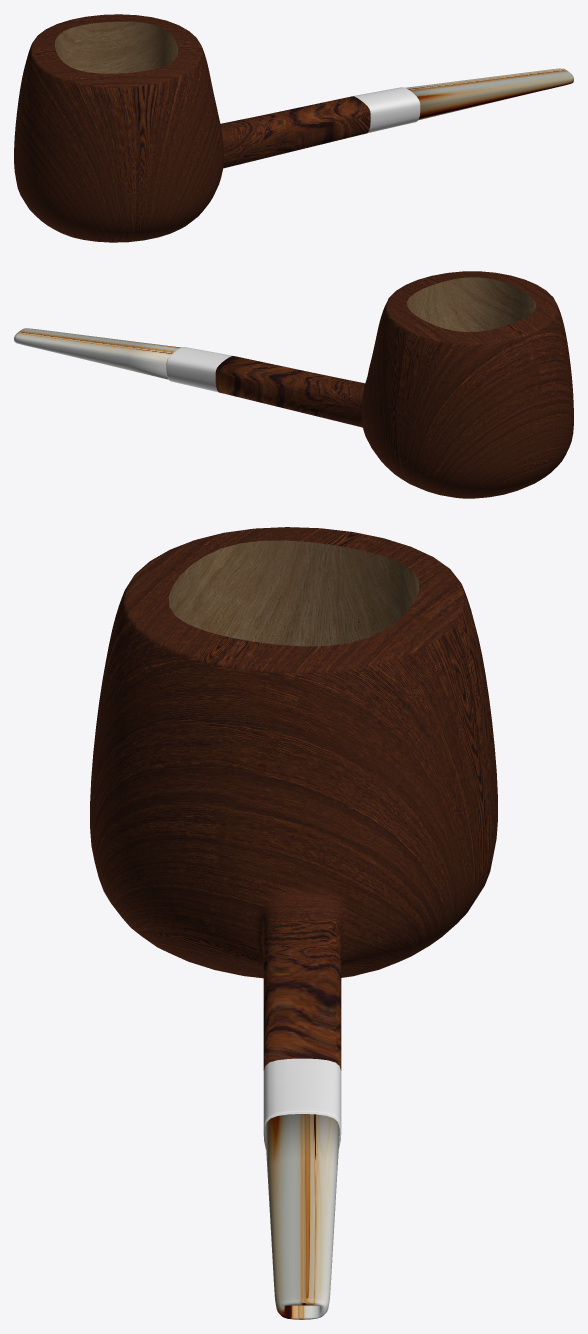
File: Pipa.fbx
The picture shows the model from 3 angles, top to bottom: view 1: azimuth 30°, elevation 25°; view 2: azimuth 150°, elevation 25°; view 3: azimuth 270°, elevation 25°; orthographic projection. The views are drawn at different scales.
Visible parts, largest first — view 1: Cube, Cube.002, Cube.003, Cube.001; view 2: Cube, Cube.002, Cube.003, Cube.001; view 3: Cube, Cube.002, Cube.003, Cube.001.
Part boxes in pixels (<box>): Cube: <box>14,14,370,242</box>; Cube.002: <box>54,21,178,73</box>; Cube.003: <box>405,68,573,120</box>; Cube.001: <box>353,87,420,133</box>; Cube: <box>215,271,573,498</box>; Cube.002: <box>407,277,536,331</box>; Cube.003: <box>14,328,180,379</box>; Cube.001: <box>166,347,232,392</box>; Cube: <box>90,527,497,1070</box>; Cube.002: <box>168,540,419,646</box>; Cube.003: <box>265,1114,339,1319</box>; Cube.001: <box>263,1058,341,1148</box>.
Size of the model in its own units: 469 by 146 by 154.
